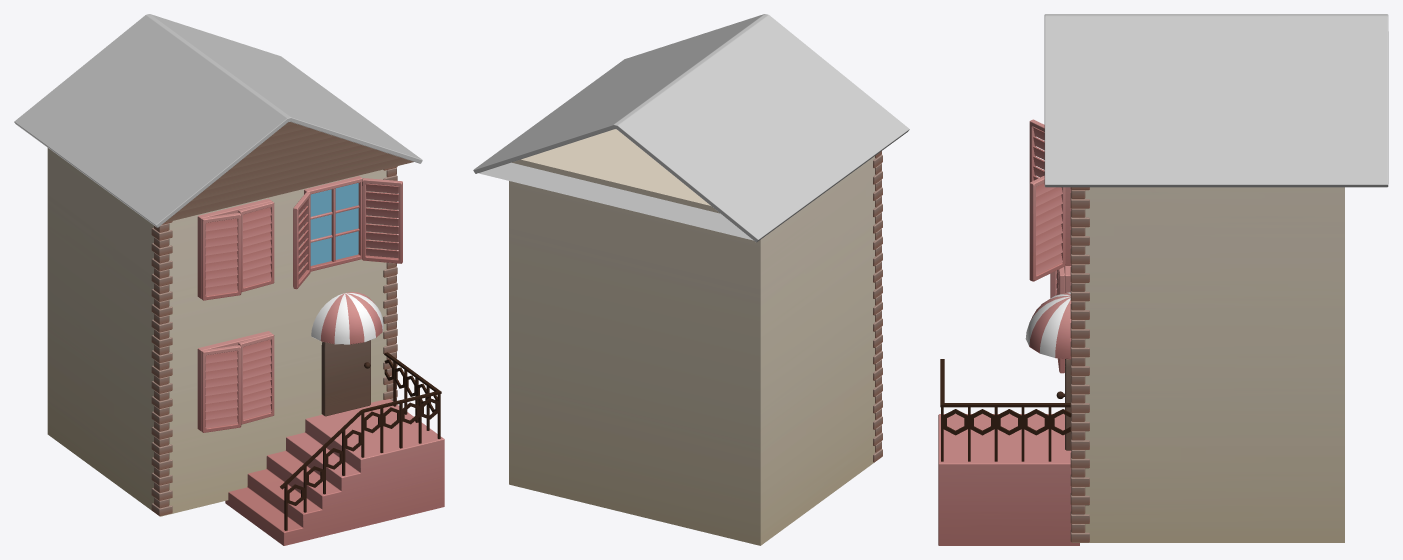
Rendered from BackgroundBuilding4.fbx.
3 views of the same model, side by side, from view 1: azimuth 30°, elevation 25°; view 2: azimuth 150°, elevation 25°; view 3: azimuth 270°, elevation 25° (orthographic). The views are drawn at different scales.
Visible parts, largest first — view 1: BackgroundBuilding4; view 2: BackgroundBuilding4; view 3: BackgroundBuilding4.
Boxes of the visible parts, x1,y1,x2,y2 form: BackgroundBuilding4: [14, 14, 444, 545]; BackgroundBuilding4: [473, 14, 909, 545]; BackgroundBuilding4: [938, 14, 1388, 545].
Bounding box in the file's own units: 685 × 941 × 826.
